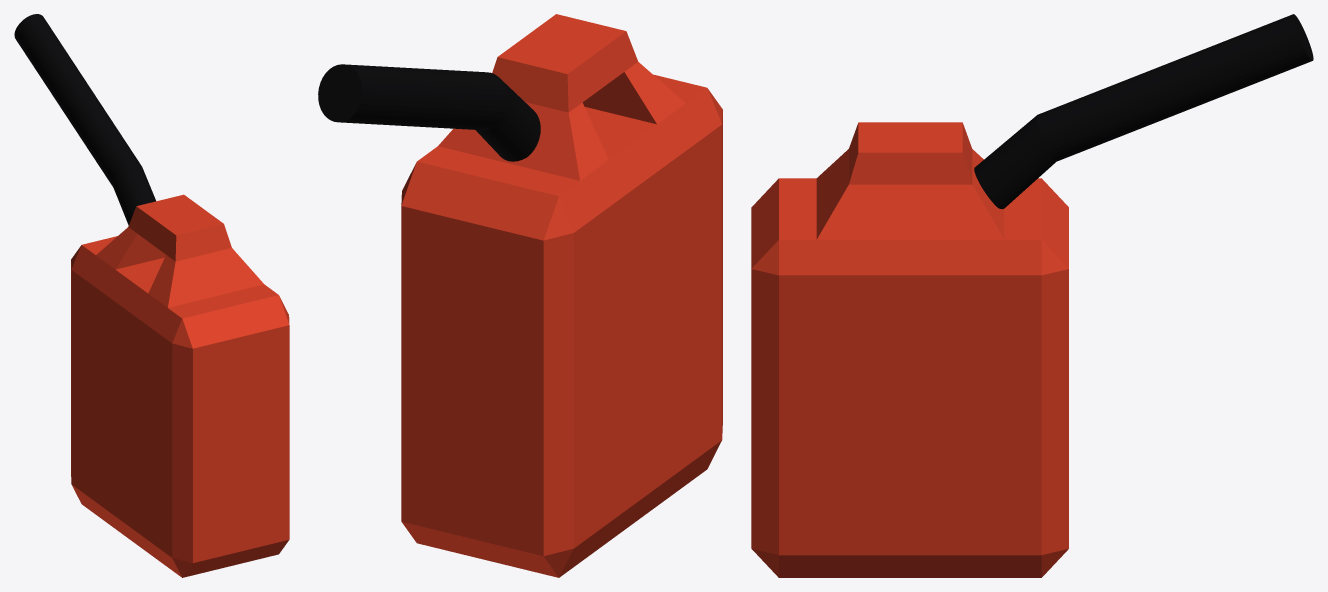
The model's file is gas.glb.
The picture shows the model from 3 angles, left to right: view 1: azimuth 30°, elevation 25°; view 2: azimuth 150°, elevation 25°; view 3: azimuth 270°, elevation 25°; orthographic projection. The views are drawn at different scales.
Visible parts, largest first — view 1: Cube; view 2: Cube; view 3: Cube.
Boxes of the visible parts, <box> form: Cube: <box>14,14,289,577</box>; Cube: <box>318,14,722,577</box>; Cube: <box>751,14,1313,577</box>.
Size of the model in its own units: 1.11 by 3.69 by 3.54.
1 material, 1 textured.
